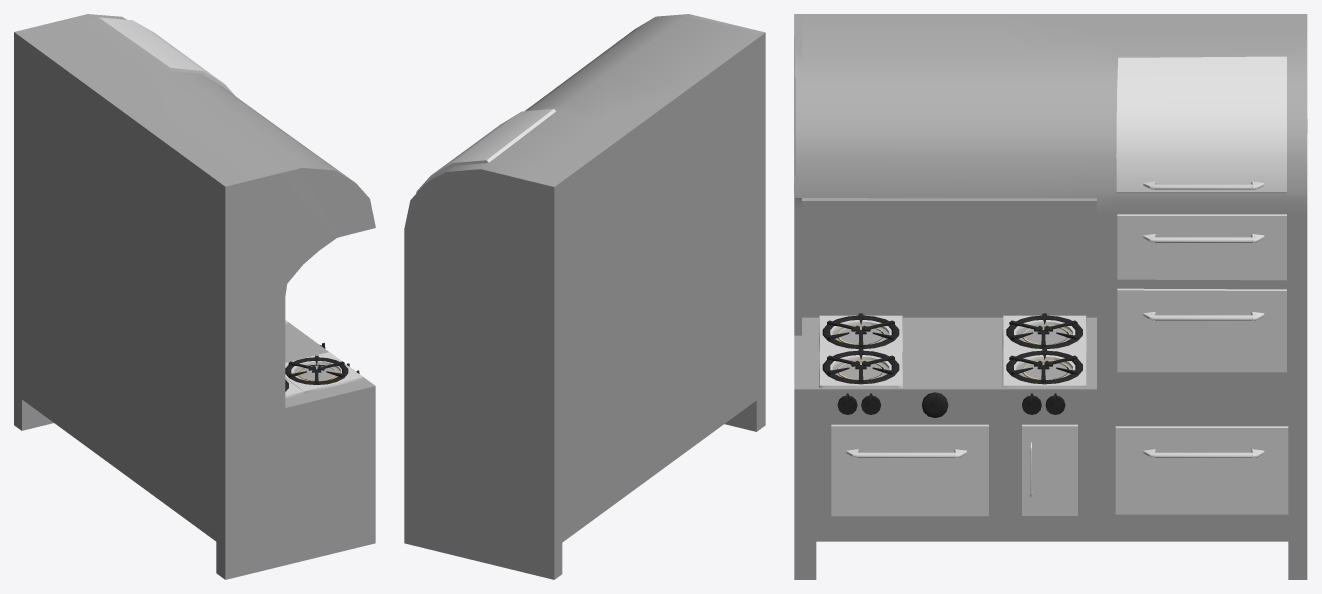
Rendered from KitchenStove.fbx.
3 renders of one model, left to right at view 1: azimuth 30°, elevation 25°; view 2: azimuth 150°, elevation 25°; view 3: azimuth 270°, elevation 25°, orthographic. The views are drawn at different scales.
Visible parts, largest first — view 1: polySurface17; view 2: polySurface17; view 3: polySurface17.
Part boxes in pixels (<box>): polySurface17: <box>14,14,375,579</box>; polySurface17: <box>404,14,765,579</box>; polySurface17: <box>794,14,1307,579</box>.
Size of the model in its own units: 87.71 by 204 by 198.
